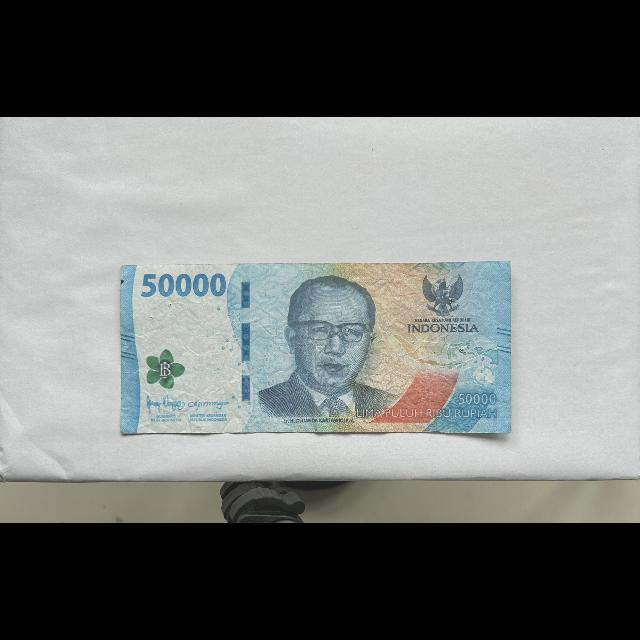Palsu-50k: (119, 258, 514, 436)
Tinta-Palsu-50k: (147, 349, 186, 390)
